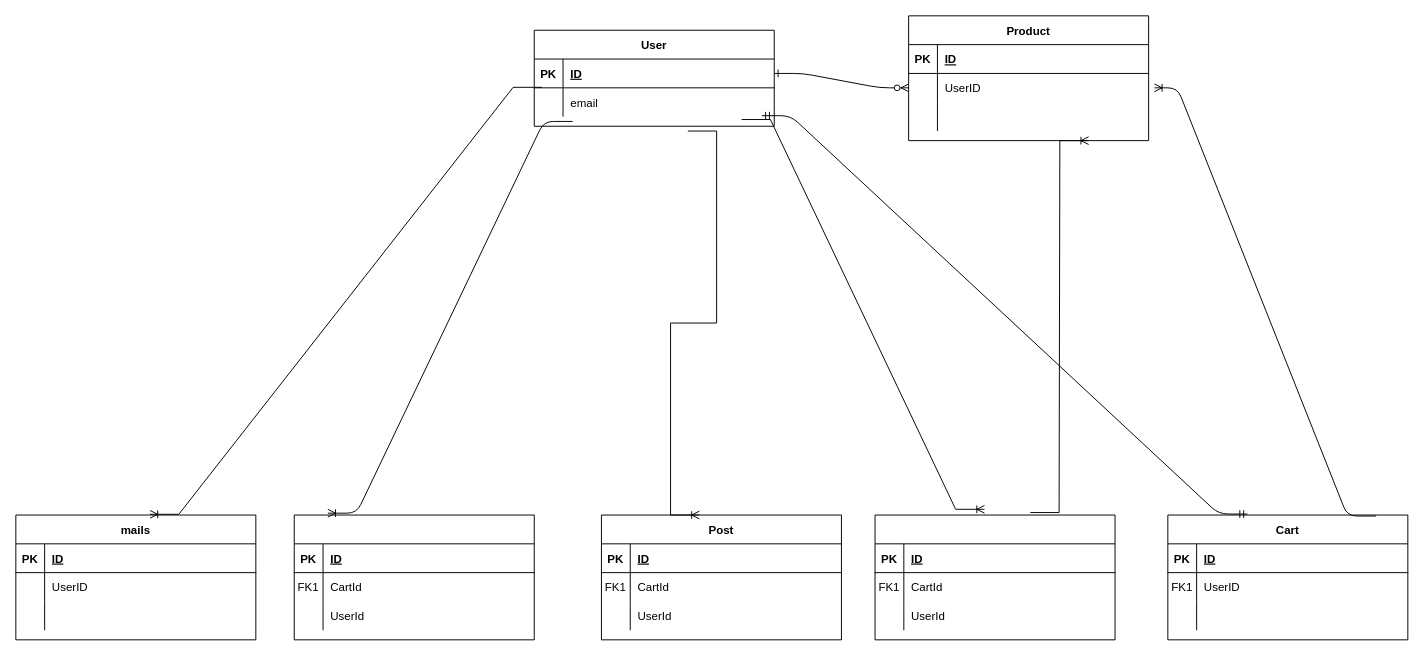
This 1424x656 diagram has some shape labels left out. The box of each missing label's shape, as (x1, y1, x2, y2) in pixels:
Order: (874, 514, 1115, 640)
Purchese: (293, 514, 534, 640)
